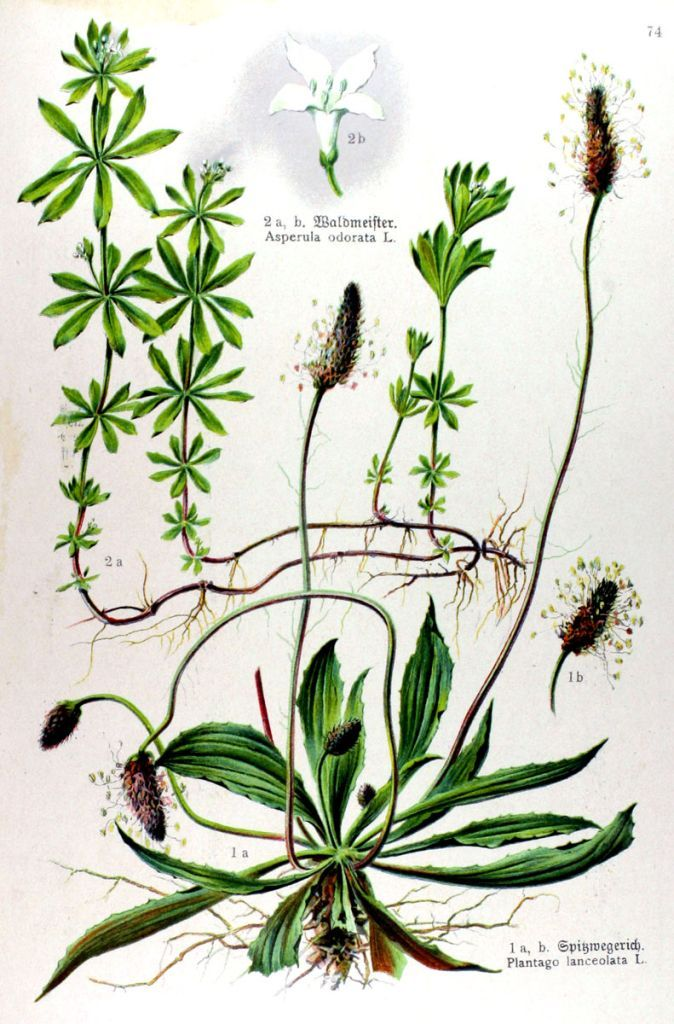buckhorn plantain: (189, 247, 545, 969)
